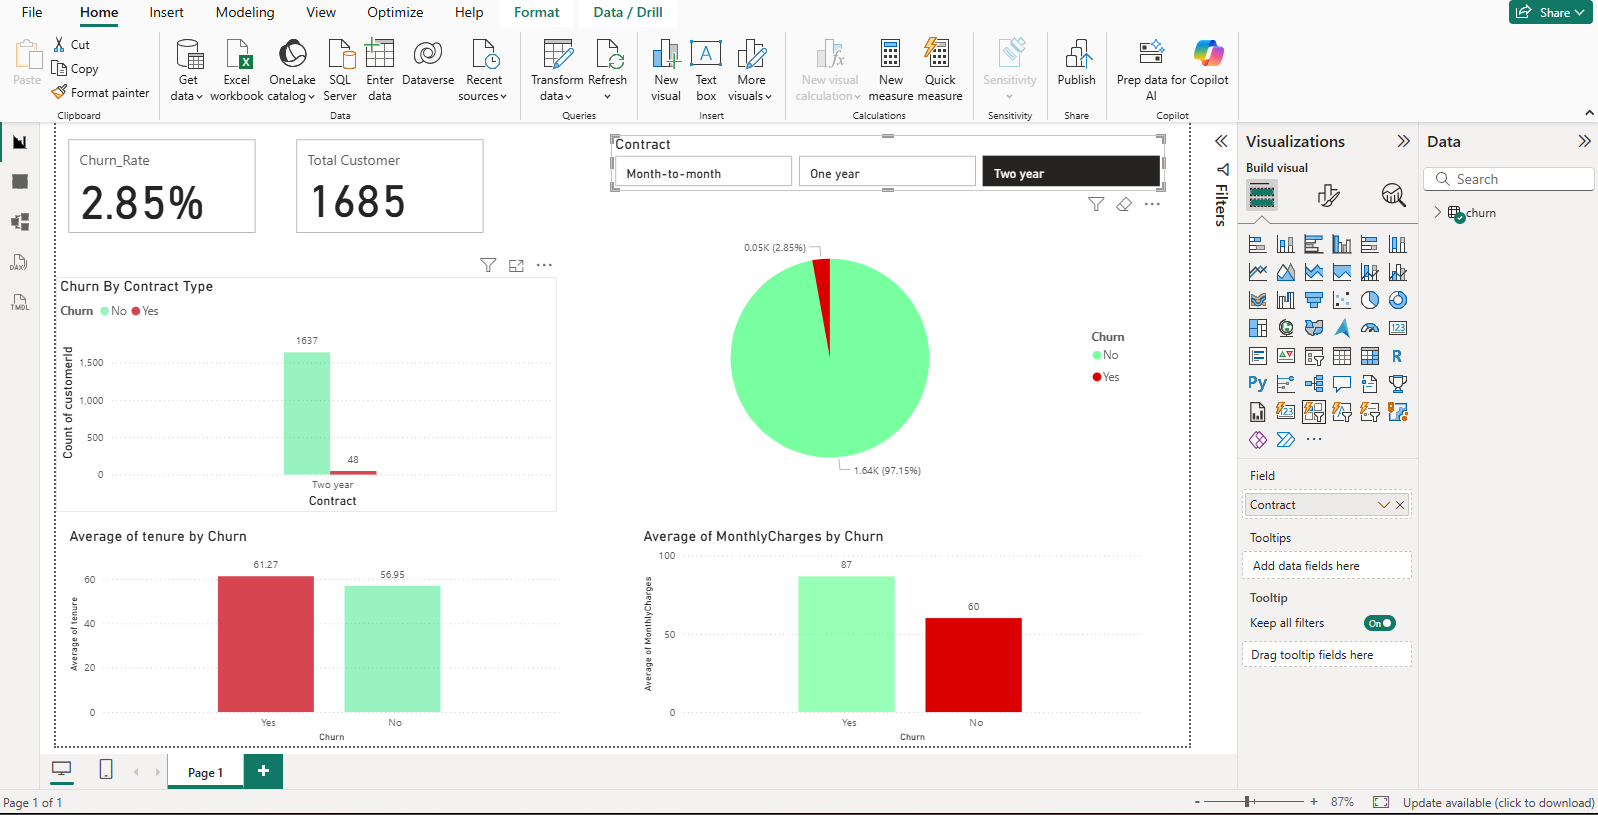

What the dashboard file says about the page in this screenshot:
{"tool":"powerbi","page":{"name":"Page 1","canvas":[1307,720],"ordinal":0},"visuals":[{"type":"cardVisual","title":"Total Customer","fields":{"Data":["Count(churn.customerId)"]},"box":[272.3,15.6,226.6,118.7],"z":0},{"type":"cardVisual","fields":{"Data":["churn.Churn_Rate"]},"box":[9.7,15.6,226.6,118.7],"z":1000},{"type":"clusteredColumnChart","title":"Churn By Contract Type","fields":{"Category":["churn.Contract"],"Series":["churn.Churn"],"Y":["CountNonNull(churn.customerId)"]},"box":[0,179.1,578.5,271.3],"z":2000},{"type":"clusteredColumnChart","fields":{"Category":["churn.Churn"],"Y":["Avg(churn.MonthlyCharges)"]},"box":[672.5,467.5,584.8,252.5],"z":3000},{"type":"clusteredColumnChart","fields":{"Category":["churn.Churn"],"Y":["Avg(churn.tenure)"]},"box":[9.9,467.5,575.8,252.5],"z":4000},{"type":"advancedSlicerVisual","fields":{"Values":["churn.Contract"]},"box":[640.3,15.2,639.4,64.5],"z":5000},{"type":"pieChart","fields":{"Category":["churn.Churn"],"Y":["CountNonNull(churn.customerId)"]},"box":[585.7,119.1,671.6,307.2],"z":6000}]}

Visuals, with their boxes on the page's 1307x720 design canvas (x1, y1, x2, y2). These are canvas units, not pixel positions in the 1598x815 screenshot, which may show the page scaled, cropped or inside an application window:
"Total Customer" cardVisual: Rect(272, 16, 499, 134)
cardVisual - churn.Churn_Rate: Rect(10, 16, 236, 134)
"Churn By Contract Type" clusteredColumnChart: Rect(0, 179, 578, 450)
clusteredColumnChart - churn.Churn x Avg(churn.MonthlyCharges): Rect(672, 468, 1257, 720)
clusteredColumnChart - churn.Churn x Avg(churn.tenure): Rect(10, 468, 586, 720)
advancedSlicerVisual - churn.Contract: Rect(640, 15, 1280, 80)
pieChart - churn.Churn x CountNonNull(churn.customerId): Rect(586, 119, 1257, 426)
